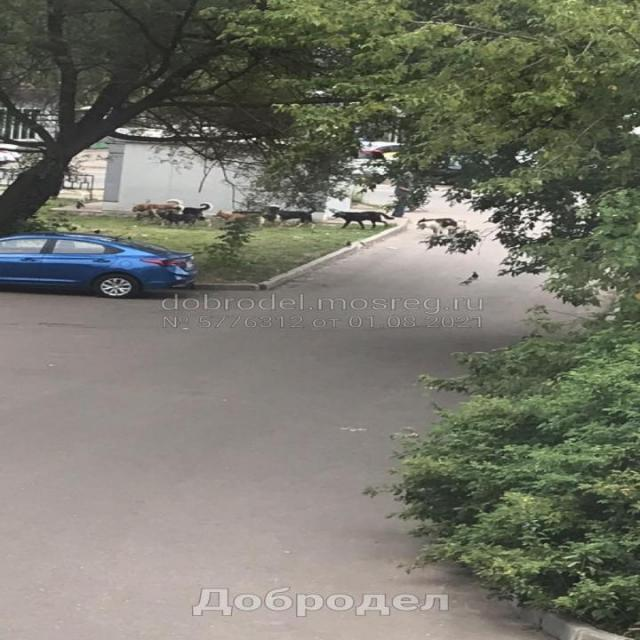dog: (211, 208, 275, 232), (133, 202, 183, 232), (410, 213, 461, 242), (331, 210, 395, 231), (269, 205, 318, 231), (168, 199, 215, 222)
